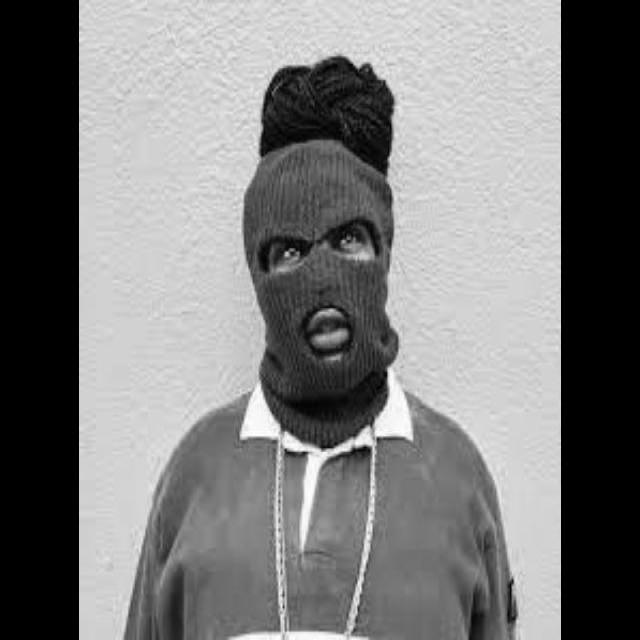6_pasamontana: (235, 145, 412, 439)
